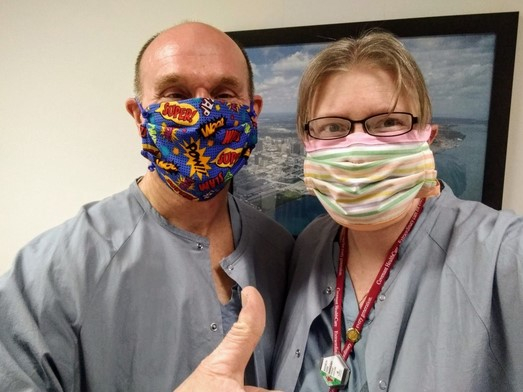face_with_mask: (301, 33, 444, 234), (127, 25, 264, 202)
